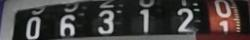digits: (1, 0, 208, 39), (205, 0, 249, 32), (96, 10, 115, 33), (176, 7, 194, 31), (59, 14, 76, 36), (25, 16, 41, 39), (214, 0, 232, 18)
